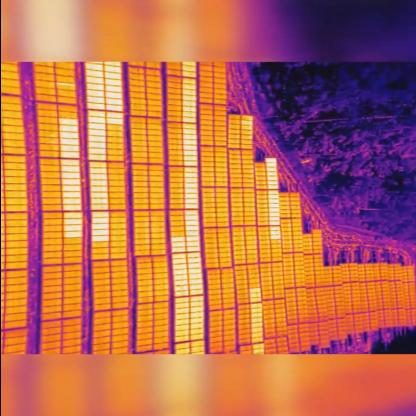diode: (103, 68, 121, 76), (86, 122, 104, 130), (86, 148, 106, 155), (105, 74, 121, 82), (105, 80, 121, 88), (62, 234, 82, 240), (62, 214, 82, 220), (61, 200, 81, 206), (88, 164, 108, 170), (106, 94, 121, 102), (86, 136, 106, 142), (92, 219, 109, 226), (61, 174, 80, 180), (173, 286, 187, 294), (64, 227, 82, 233), (63, 206, 81, 212), (60, 180, 78, 186), (61, 168, 79, 174), (61, 161, 79, 167), (60, 127, 78, 133), (60, 134, 78, 140), (60, 147, 78, 153), (91, 238, 109, 244), (91, 232, 109, 238), (92, 225, 110, 231), (90, 200, 108, 206), (89, 170, 107, 176), (85, 86, 103, 92), (85, 92, 103, 98), (180, 67, 198, 73), (107, 100, 122, 107), (107, 106, 122, 113), (60, 140, 77, 146), (90, 188, 107, 194), (61, 194, 81, 199), (86, 156, 106, 161), (86, 111, 106, 116), (184, 167, 198, 174), (60, 121, 76, 127), (92, 213, 108, 219), (92, 205, 108, 211), (107, 114, 123, 120), (85, 66, 101, 72), (182, 92, 198, 98), (175, 309, 187, 317), (59, 154, 78, 159), (63, 221, 81, 226), (61, 188, 79, 193), (103, 62, 121, 67), (87, 118, 105, 123), (86, 79, 101, 85), (182, 80, 197, 86), (106, 88, 120, 94), (88, 92, 102, 98), (184, 125, 198, 131), (184, 174, 198, 180), (190, 298, 204, 304), (189, 334, 203, 340), (189, 343, 203, 349), (172, 266, 186, 272), (174, 305, 188, 311), (190, 324, 204, 330), (189, 319, 203, 325), (90, 194, 106, 199), (90, 182, 106, 187), (90, 176, 106, 181), (107, 121, 123, 126), (86, 126, 106, 130), (174, 271, 185, 278), (183, 119, 195, 125), (86, 100, 104, 104), (87, 106, 105, 110), (186, 190, 198, 196), (185, 227, 197, 233), (186, 242, 198, 248), (186, 276, 198, 282), (190, 282, 202, 288), (170, 256, 182, 262), (171, 248, 183, 254), (174, 276, 186, 282), (173, 282, 185, 288), (175, 293, 187, 299), (174, 300, 186, 306), (175, 316, 187, 322), (176, 326, 188, 332), (175, 332, 187, 338), (174, 346, 186, 352), (250, 325, 262, 331), (175, 338, 187, 344), (182, 63, 196, 68), (184, 218, 198, 223), (190, 331, 204, 336), (267, 186, 278, 192), (87, 74, 103, 78), (88, 131, 104, 135), (264, 160, 276, 165), (266, 191, 278, 196), (268, 196, 278, 202), (184, 74, 196, 79), (181, 88, 196, 92), (184, 136, 196, 141), (186, 180, 198, 185), (188, 271, 200, 276), (192, 304, 202, 310), (190, 310, 202, 315), (172, 244, 184, 249), (172, 262, 184, 267), (249, 290, 259, 296), (250, 320, 260, 326), (250, 315, 260, 321), (182, 115, 196, 119), (183, 98, 197, 102), (183, 132, 197, 136), (184, 186, 198, 190), (185, 240, 199, 244), (186, 256, 200, 260), (189, 288, 203, 292), (170, 239, 184, 243), (174, 350, 188, 354), (184, 196, 198, 200), (185, 163, 196, 168), (175, 322, 186, 327), (88, 144, 106, 147), (268, 215, 278, 220), (186, 233, 196, 238), (265, 165, 277, 169), (184, 103, 196, 107), (184, 142, 196, 146), (185, 206, 197, 210), (184, 214, 196, 218), (183, 153, 195, 157), (188, 266, 200, 270), (190, 291, 202, 295), (190, 349, 202, 353), (184, 200, 196, 204), (186, 210, 198, 214), (271, 236, 280, 241), (242, 127, 251, 132), (187, 260, 198, 264), (182, 110, 196, 113), (186, 249, 200, 252), (188, 316, 202, 319), (267, 182, 277, 186), (185, 148, 195, 152), (186, 158, 196, 162), (250, 300, 258, 305), (249, 306, 259, 310), (250, 311, 260, 315), (250, 332, 260, 336), (252, 336, 260, 341), (251, 341, 261, 345), (252, 346, 260, 351), (54, 84, 73, 86), (268, 201, 277, 205), (268, 219, 277, 223), (186, 223, 198, 226), (270, 234, 278, 238), (270, 210, 278, 214), (266, 170, 276, 173), (266, 179, 276, 182), (250, 296, 260, 299), (271, 228, 278, 232), (269, 206, 278, 209), (242, 123, 251, 126), (270, 223, 278, 226), (252, 352, 262, 354), (84, 63, 102, 64), (266, 174, 275, 176)
hotspot: (247, 119, 253, 122)
